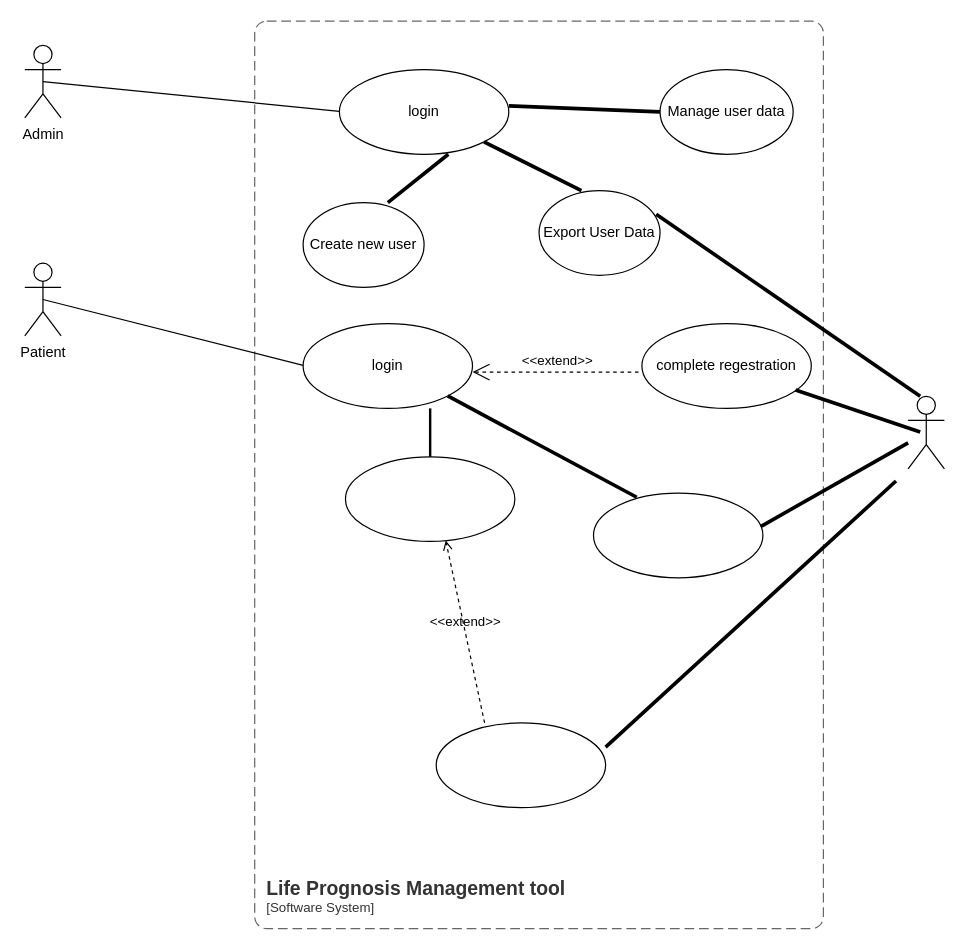
Image size: 978x950. Some labels were removed from this diagram. The centre of each missing label's shape, as x and y in pixels:
"compute life expectancy" goes at (x=677, y=535).
"Database" goes at (x=925, y=432).
"update profile" goes at (x=520, y=765).
"view profile" goes at (x=429, y=498).
